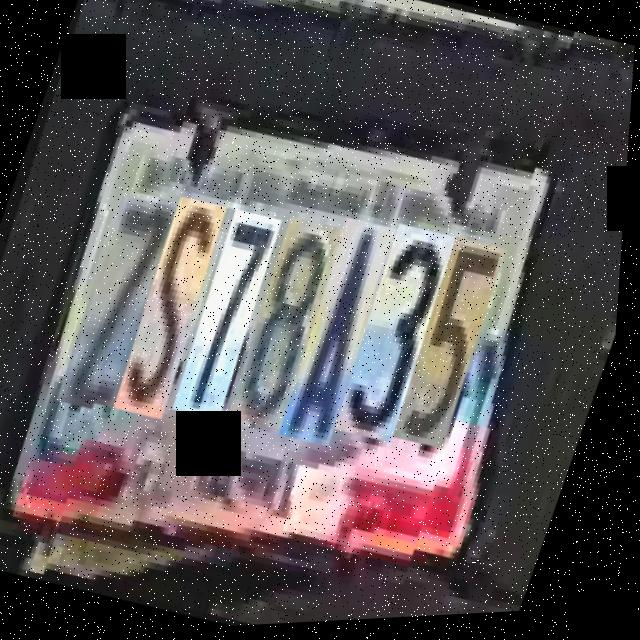3: (332, 224, 463, 449)
5: (391, 240, 512, 455)
7: (169, 210, 288, 424)
8: (224, 216, 351, 434)
A: (276, 218, 405, 452)
S: (113, 196, 235, 422)
Z: (56, 187, 187, 412)
